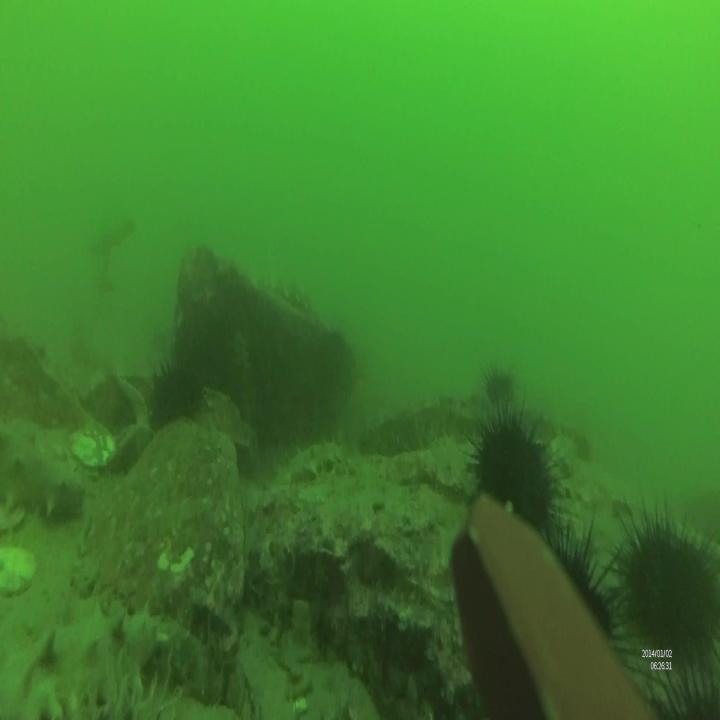echinus: (617, 488, 716, 660), (543, 509, 629, 679), (468, 411, 564, 524), (648, 650, 720, 716), (148, 351, 204, 429), (483, 360, 514, 402)
holothurian: (1, 599, 167, 720), (1, 411, 85, 526), (271, 272, 318, 314)
